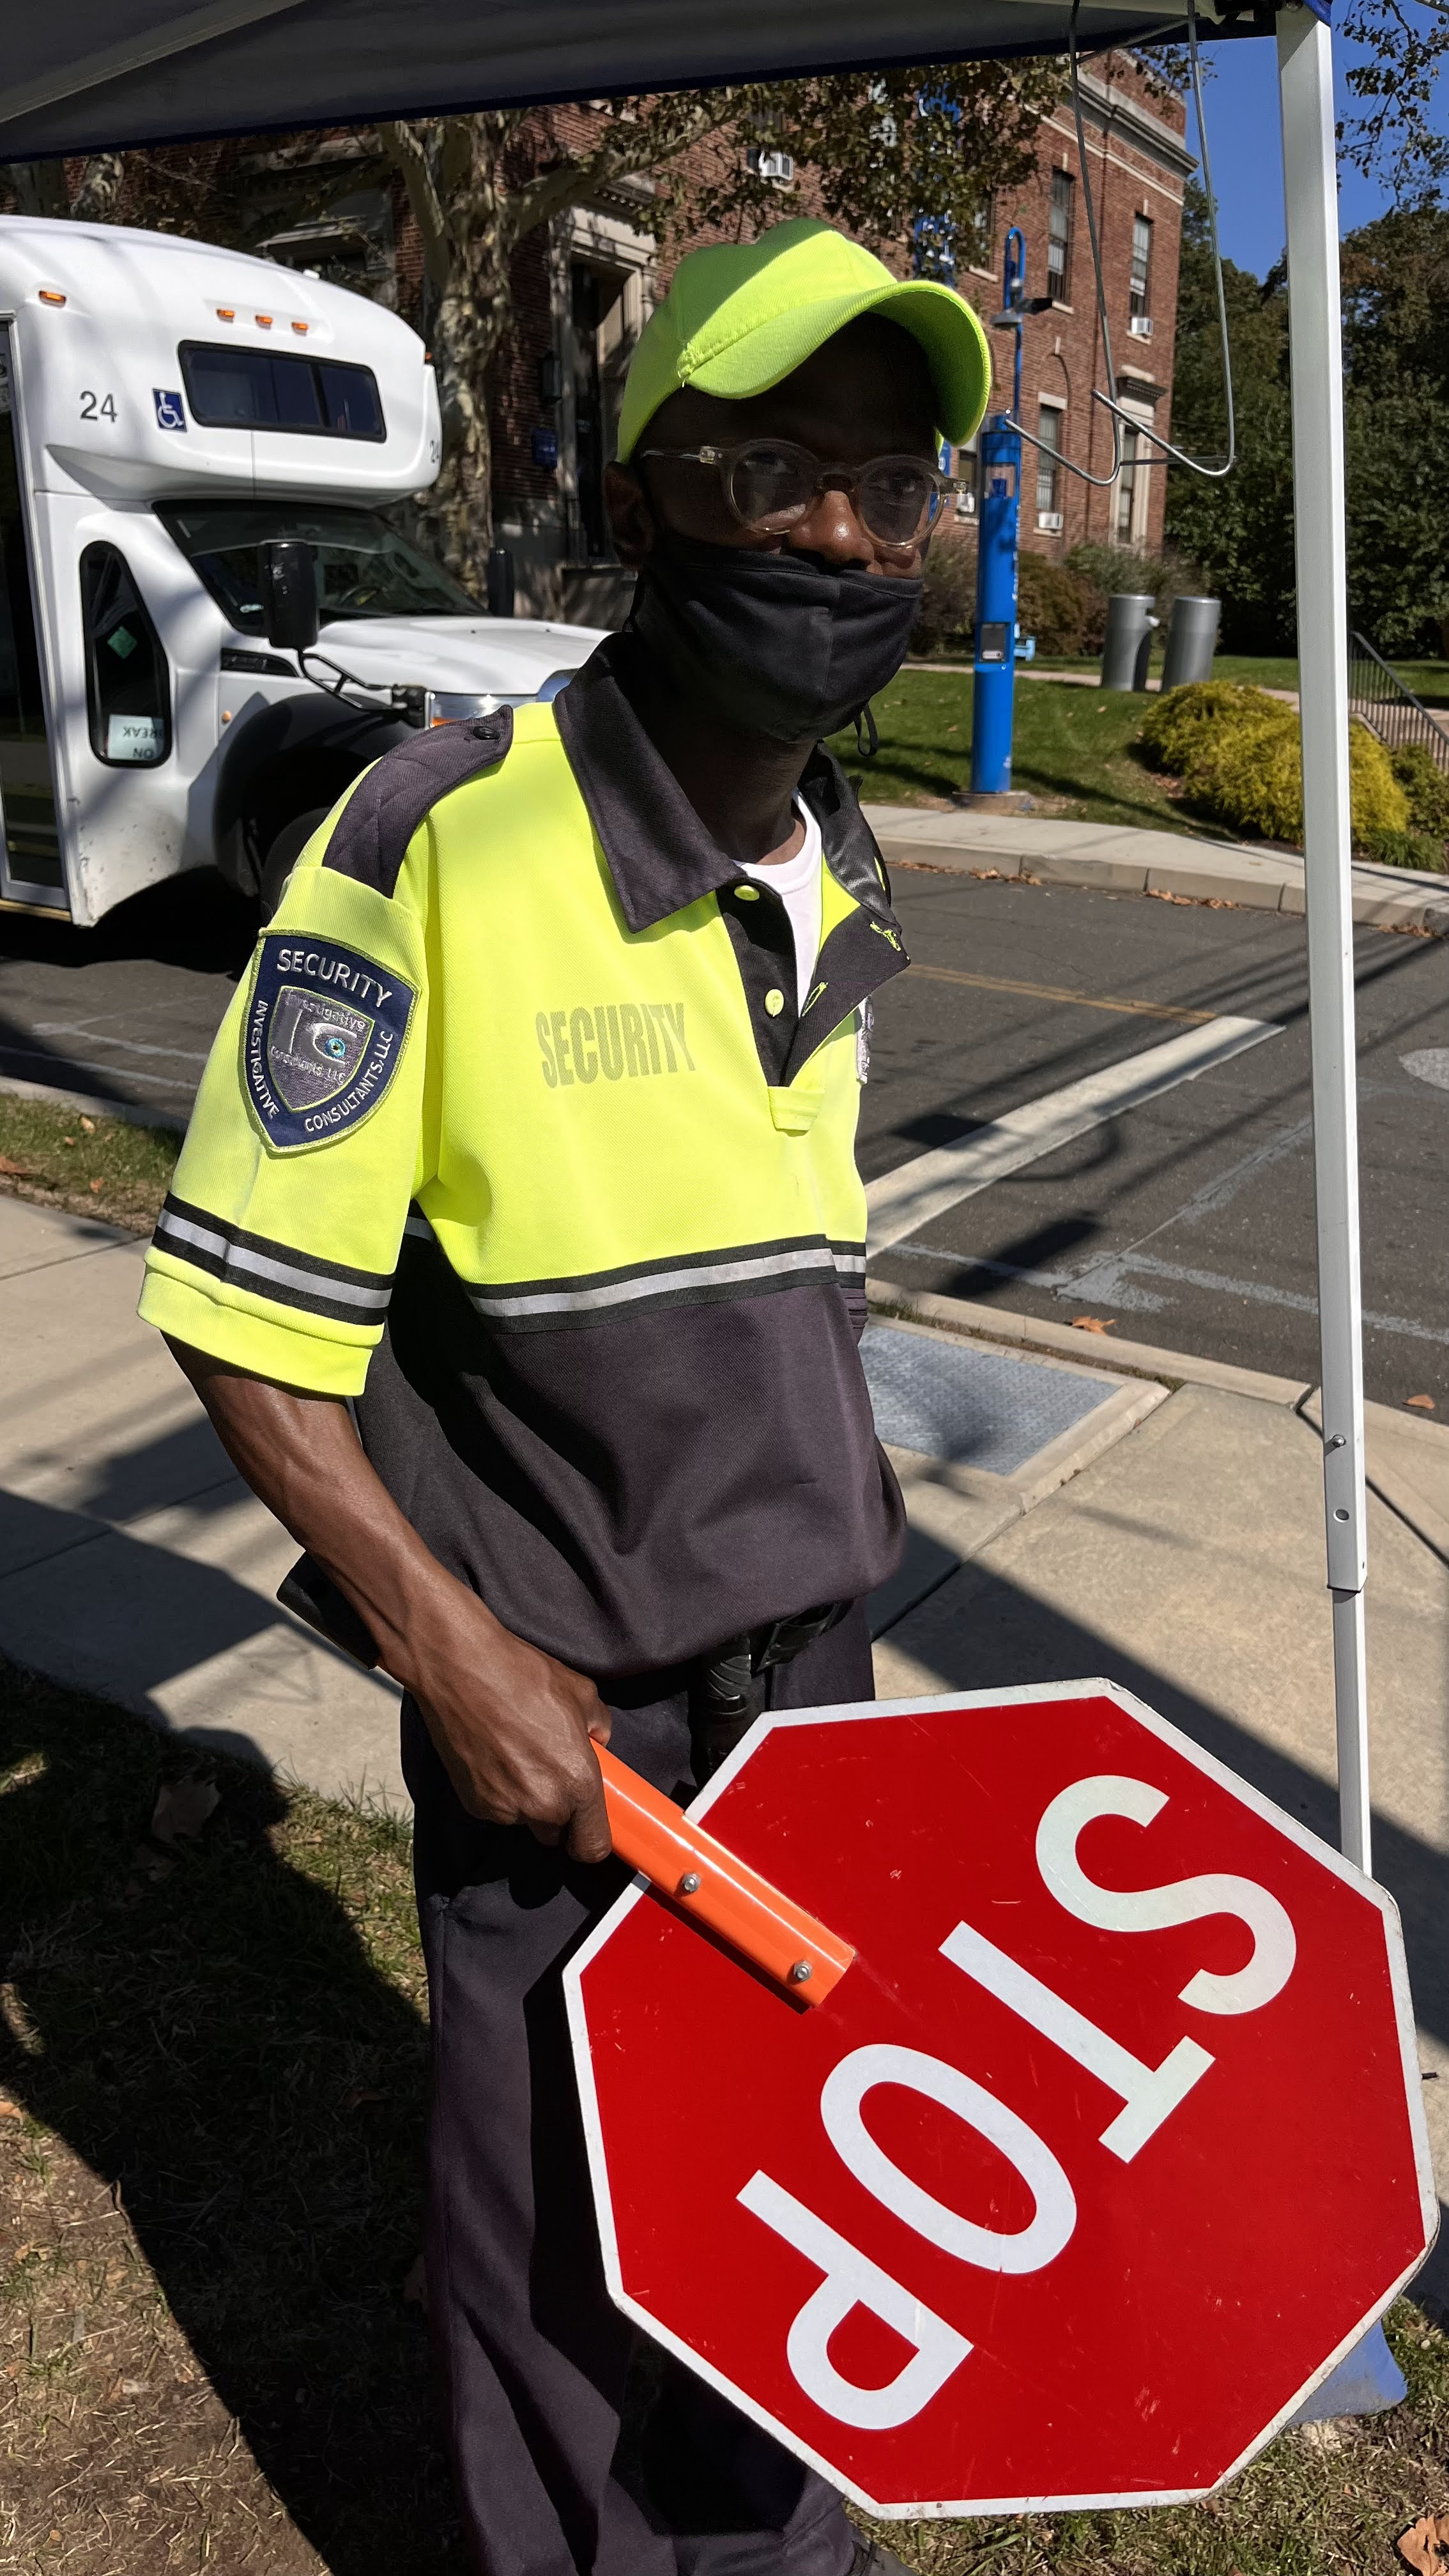Security Officer: (487, 166, 1028, 1182)
